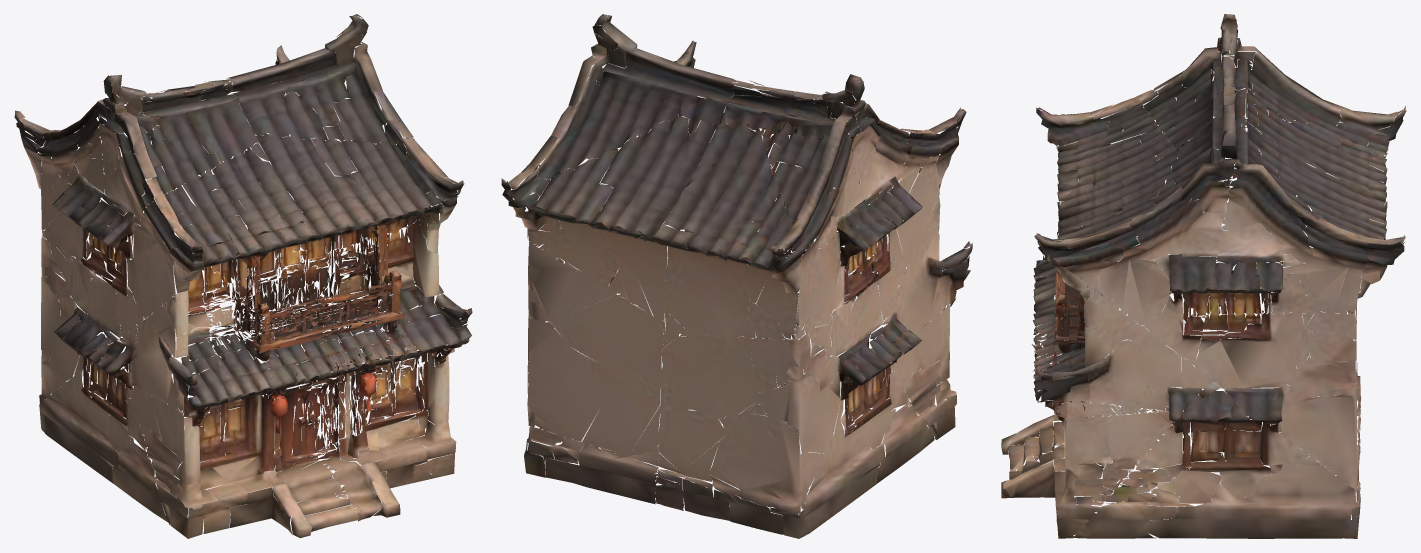
File: house_a_20k.glb
3 views of the same model, side by side, from view 1: azimuth 30°, elevation 25°; view 2: azimuth 150°, elevation 25°; view 3: azimuth 270°, elevation 25° (orthographic). The views are drawn at different scales.
Visible parts, largest first — view 1: tripo_node_040720c3-5b58-4182-ba61-9ae558e5c5ab; view 2: tripo_node_040720c3-5b58-4182-ba61-9ae558e5c5ab; view 3: tripo_node_040720c3-5b58-4182-ba61-9ae558e5c5ab.
Boxes of the visible parts, x1,y1,x2,y2 form: tripo_node_040720c3-5b58-4182-ba61-9ae558e5c5ab: [14, 14, 472, 538]; tripo_node_040720c3-5b58-4182-ba61-9ae558e5c5ab: [501, 14, 972, 538]; tripo_node_040720c3-5b58-4182-ba61-9ae558e5c5ab: [1001, 14, 1406, 538].
Size of the model in its own units: 0.8228 by 0.9803 by 0.897.
1 material, 1 textured.
